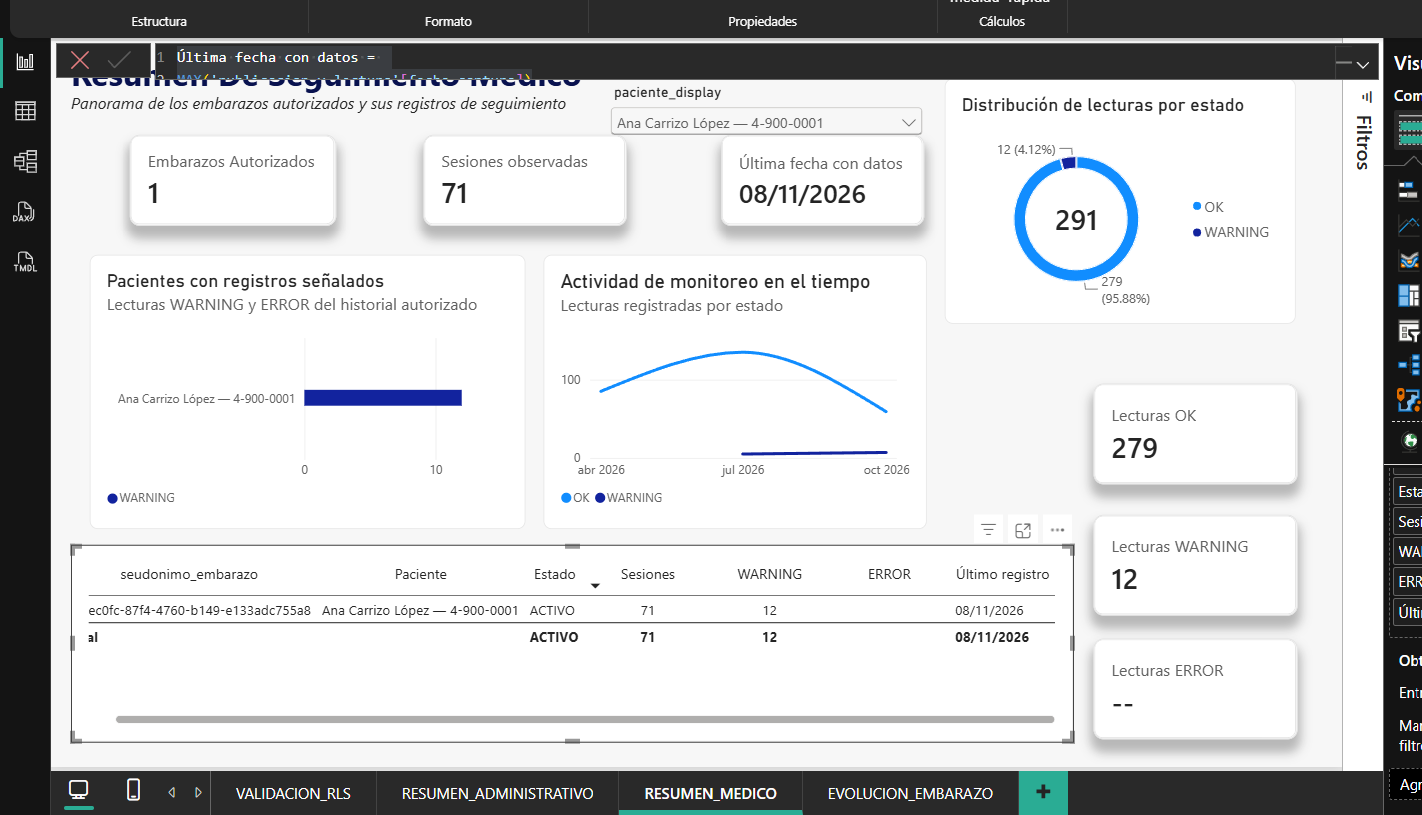

What the dashboard file says about the page in this screenshot:
{"tool":"powerbi","page":{"name":"RESUMEN_MEDICO","canvas":[1280,720],"ordinal":2},"visuals":[{"type":"textbox","box":[20,10,644,54],"z":0},{"type":"textbox","box":[20,50,644,30],"z":1000},{"type":"textbox","box":[930,10,334,38],"z":2000},{"type":"cardVisual","fields":{"Data":["publicacion v_embarazo.Embarazos visibles"]},"box":[78.2,93.3,204.5,90.6],"z":3000},{"type":"cardVisual","fields":{"Data":["publicacion v_lectura.Lecturas WARNING"]},"box":[1034,470,202,100],"z":4000},{"type":"cardVisual","fields":{"Data":["publicacion v_lectura.Lecturas ERROR"]},"box":[1034,592,202,100],"z":5000},{"type":"cardVisual","fields":{"Data":["publicacion v_lectura.Sesiones observadas"]},"box":[369.1,93.3,201.7,90.6],"z":6000},{"type":"cardVisual","fields":{"Data":["publicacion v_lectura.Última fecha con datos"]},"box":[664.2,93.3,201.7,90.6],"z":7000},{"type":"cardVisual","fields":{"Data":["publicacion v_lectura.Lecturas OK"]},"box":[1034,340,202,100],"z":8000},{"type":"donutChart","title":"Distribución de lecturas por estado","fields":{"Category":["publicacion v_lectura.codigo_semaforo"],"Y":["publicacion v_lectura.Lecturas"]},"box":[886.7,36.7,348.3,243.3],"z":9000},{"type":"barChart","title":"Pacientes con registros señalados","fields":{"Category":["publicacion v_paciente_medico.paciente_display"],"Series":["publicacion v_lectura.codigo_semaforo"],"Y":["publicacion v_lectura.Lecturas"]},"box":[38,212,432,272],"z":10000},{"type":"tableEx","fields":{"Values":["publicacion v_embarazo.seudonimo_embarazo","publicacion v_paciente_medico.paciente_display","publicacion v_embarazo.estado_embarazo","publicacion v_lectura.Sesiones observadas","publicacion v_lectura.Lecturas WARNING","publicacion v_lectura.Lecturas ERROR","publicacion v_lectura.Última fecha con datos"]},"box":[20,500,993.3,195],"z":11000},{"type":"lineChart","title":"Actividad de monitoreo en el tiempo","fields":{"Category":["publicacion v_lectura.fecha_captura.Variación.Jerarquía de fechas.Año","publicacion v_lectura.fecha_captura.Variación.Jerarquía de fechas.Trimestre","publicacion v_lectura.fecha_captura.Variación.Jerarquía de fechas.Mes","publicacion v_lectura.fecha_captura.Variación.Jerarquía de fechas.Día"],"Series":["publicacion v_lectura.codigo_semaforo"],"Y":["publicacion v_lectura.Lecturas"]},"box":[488.3,211.7,380,271.7],"z":12000},{"type":"slicer","title":"Paciente","fields":{"Values":["publicacion v_paciente_medico.paciente_display"]},"box":[550.3,5.5,318.4,87.8],"z":13000}]}

Visuals, with their boxes on the page's 1280x720 design canvas (x1, y1, x2, y2). These are canvas units, not pixel positions in the 1422x815 screenshot, which may show the page scaled, cropped or inside an application window:
textbox: [20, 10, 664, 64]
textbox: [20, 50, 664, 80]
textbox: [930, 10, 1264, 48]
cardVisual - publicacion v_embarazo.Embarazos visibles: [78, 93, 283, 184]
cardVisual - publicacion v_lectura.Lecturas WARNING: [1034, 470, 1236, 570]
cardVisual - publicacion v_lectura.Lecturas ERROR: [1034, 592, 1236, 692]
cardVisual - publicacion v_lectura.Sesiones observadas: [369, 93, 571, 184]
cardVisual - publicacion v_lectura.Última fecha con datos: [664, 93, 866, 184]
cardVisual - publicacion v_lectura.Lecturas OK: [1034, 340, 1236, 440]
"Distribución de lecturas por estado" donutChart: [887, 37, 1235, 280]
"Pacientes con registros señalados" barChart: [38, 212, 470, 484]
tableEx - publicacion v_embarazo.seudonimo_embarazo x publicacion v_paciente_medico.paciente_display: [20, 500, 1013, 695]
"Actividad de monitoreo en el tiempo" lineChart: [488, 212, 868, 483]
"Paciente" slicer: [550, 6, 869, 93]
